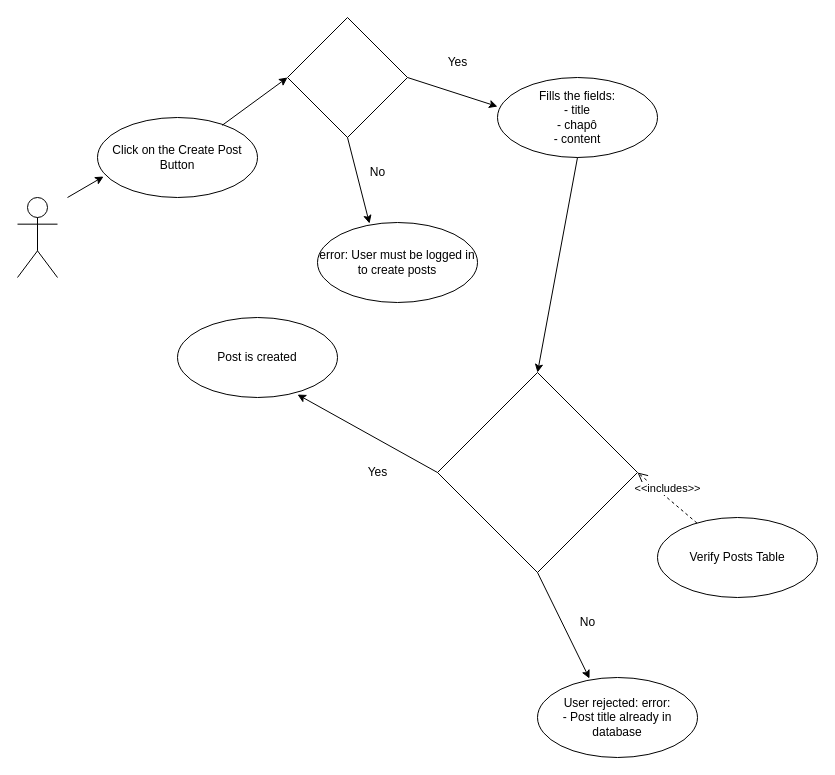
Some shapes in this 835 by 775 pixel diagram are drawn without their labels. Each missing label, with the box of its shape:
Title is available ?: (436, 372, 638, 572)
User: (16, 196, 58, 278)
User is logged in ?: (286, 16, 408, 138)
